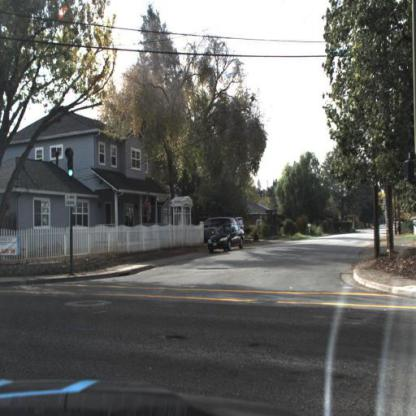car: (207, 223, 245, 256), (199, 216, 245, 243)
trafficLight: (63, 145, 75, 181)
